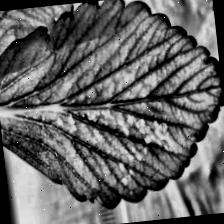Angular Leafspot: (29, 82, 190, 198)
